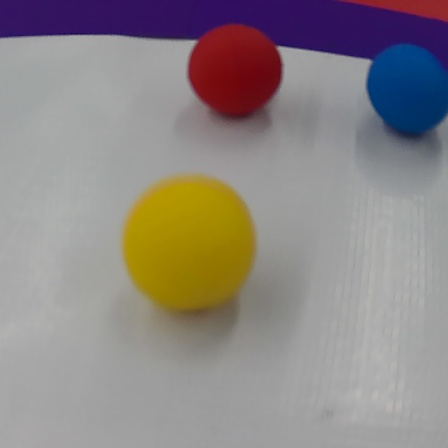blue: (366, 40, 448, 139)
red: (189, 24, 287, 122)
yellow: (125, 168, 257, 315)
